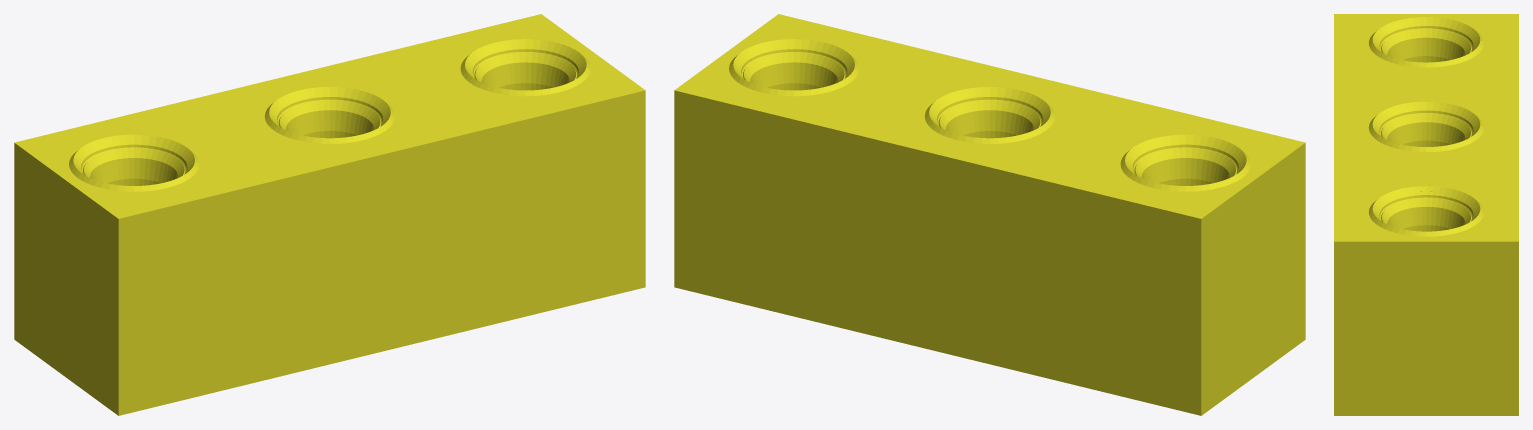
3 renders of one model, left to right at view 1: azimuth 30°, elevation 25°; view 2: azimuth 150°, elevation 25°; view 3: azimuth 270°, elevation 25°, orthographic. The views are drawn at different scales.
Parts seen in each view (by area): view 1: Cube.007; view 2: Cube.007; view 3: Cube.007.
Boxes of the visible parts, x1,y1,x2,y2 form: Cube.007: [14, 14, 645, 415]; Cube.007: [674, 14, 1305, 415]; Cube.007: [1334, 14, 1518, 415].
Size of the model in its own units: 0.35 by 0.1275 by 0.12.
